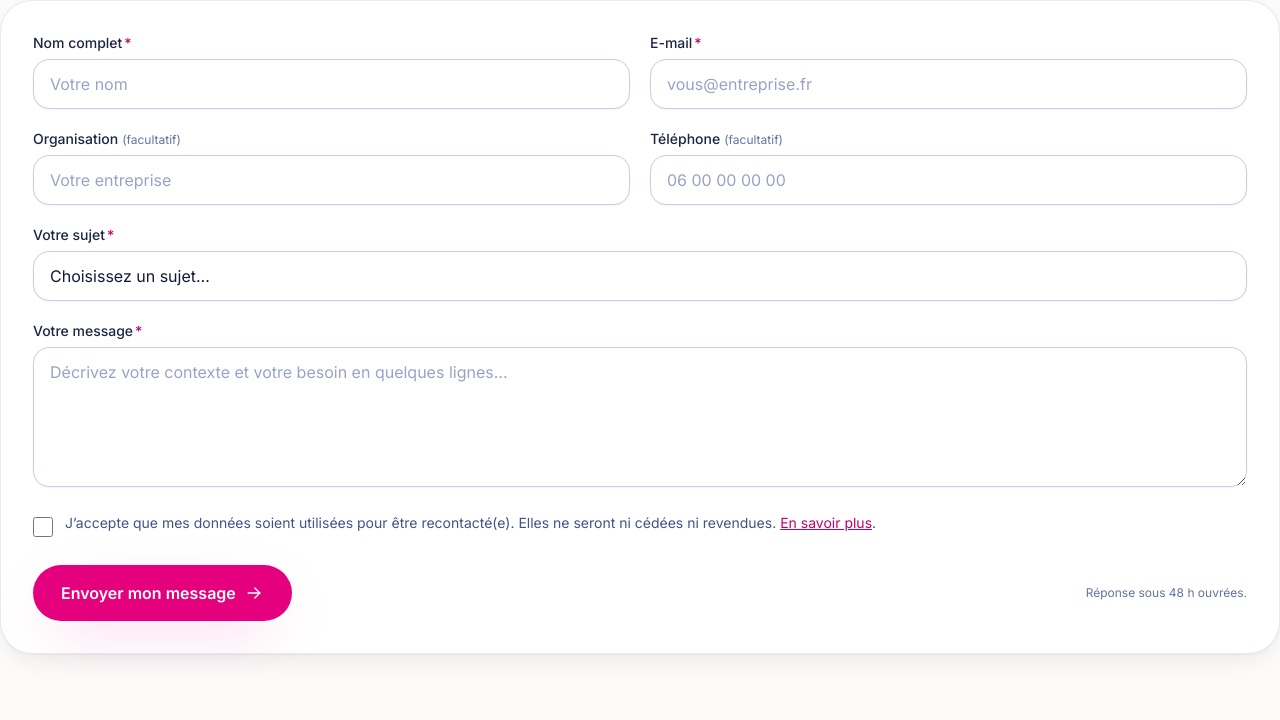
Test case: ContactForm › propose un repli mailto si l’API échoue
In the field labelled "Nom complet*": (332, 84) [33,59,630,109], type "Marie Dupont"
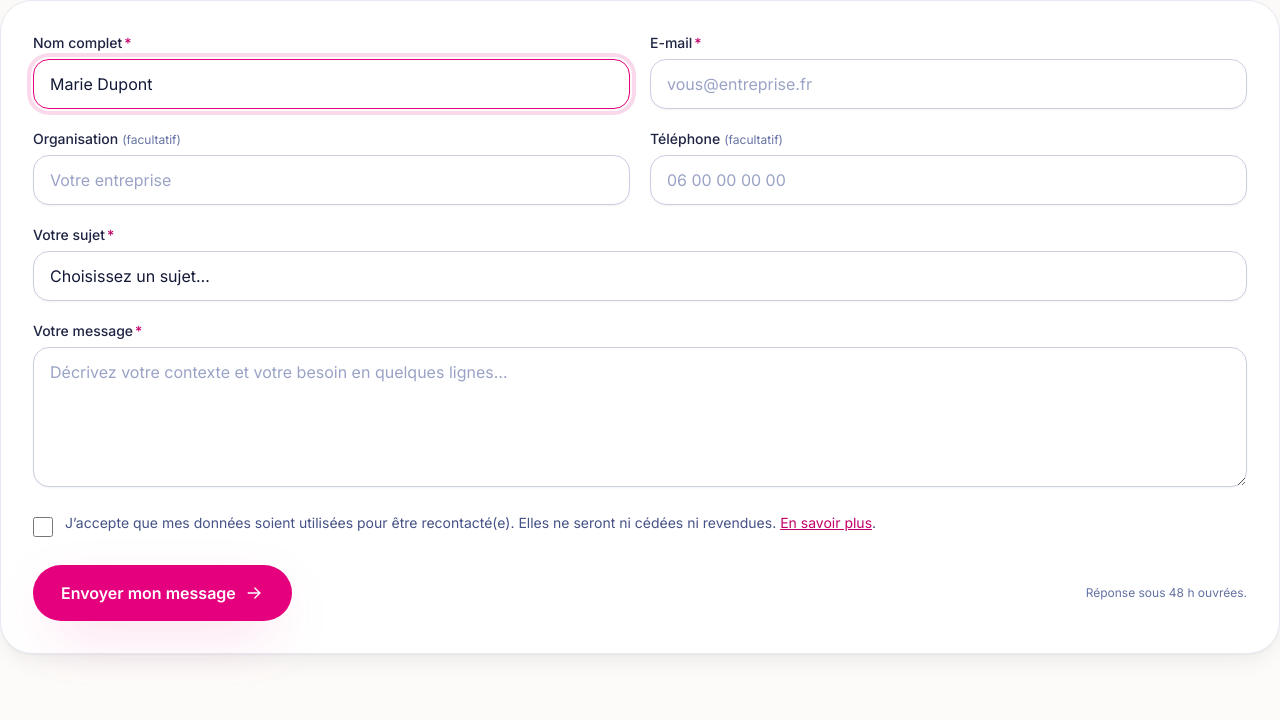
In the field labelled "E-mail*": (948, 84) [650,59,1247,109], type "marie@example.com"
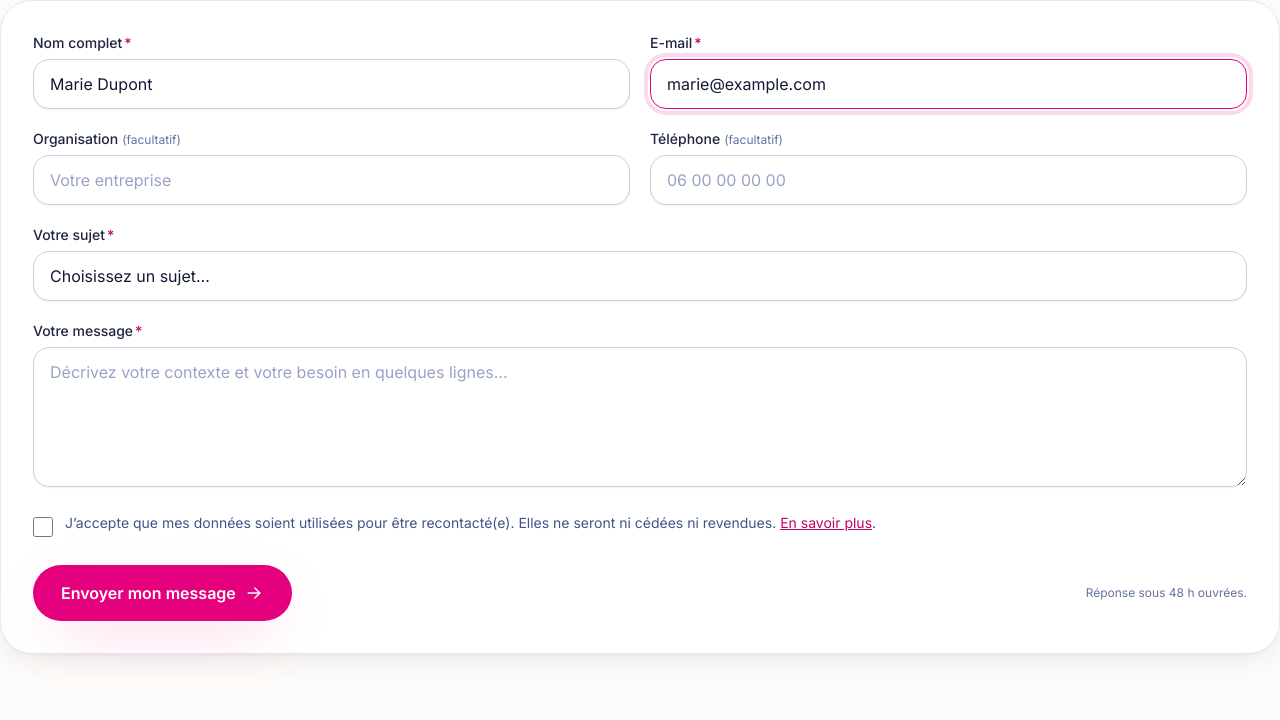
Select "Management & leadership" in the dropdown labelled "Votre sujet*": (640, 276) [33,251,1247,301]
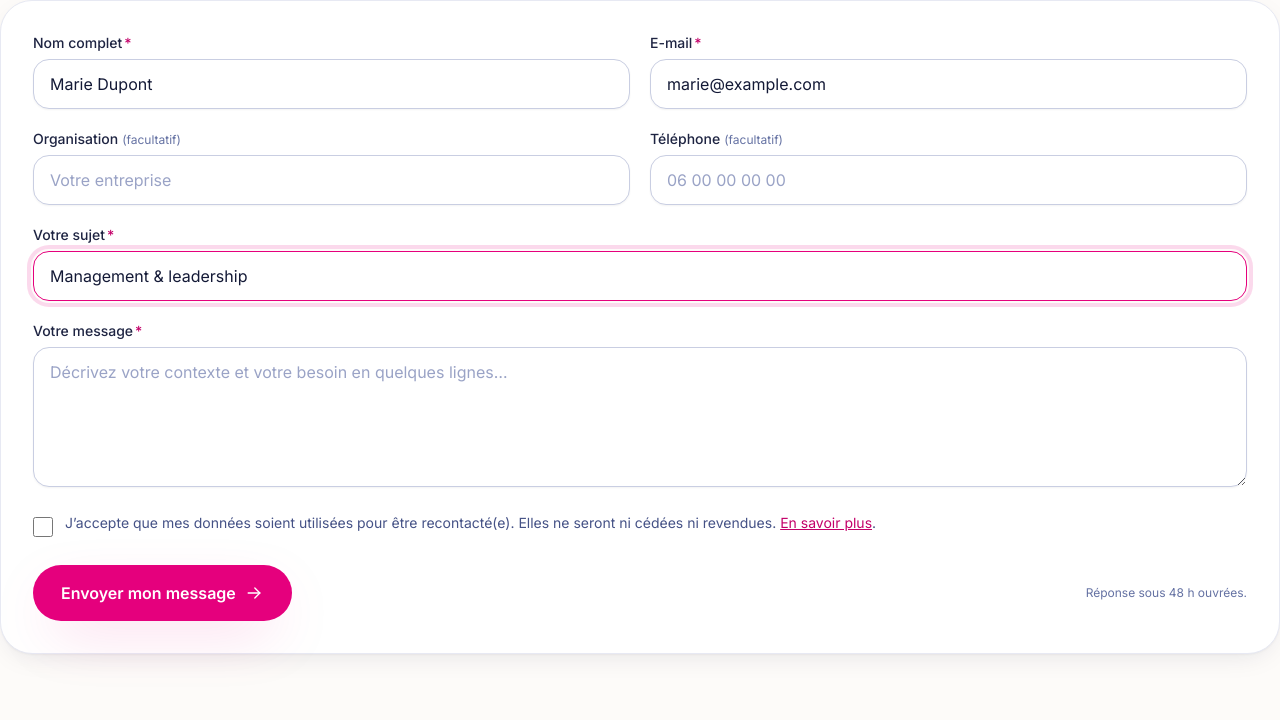
In the text box labelled "Votre message*": (640, 417) [33,347,1247,487], type "Bonjour, je souhaite un accompagnement pour mes managers."
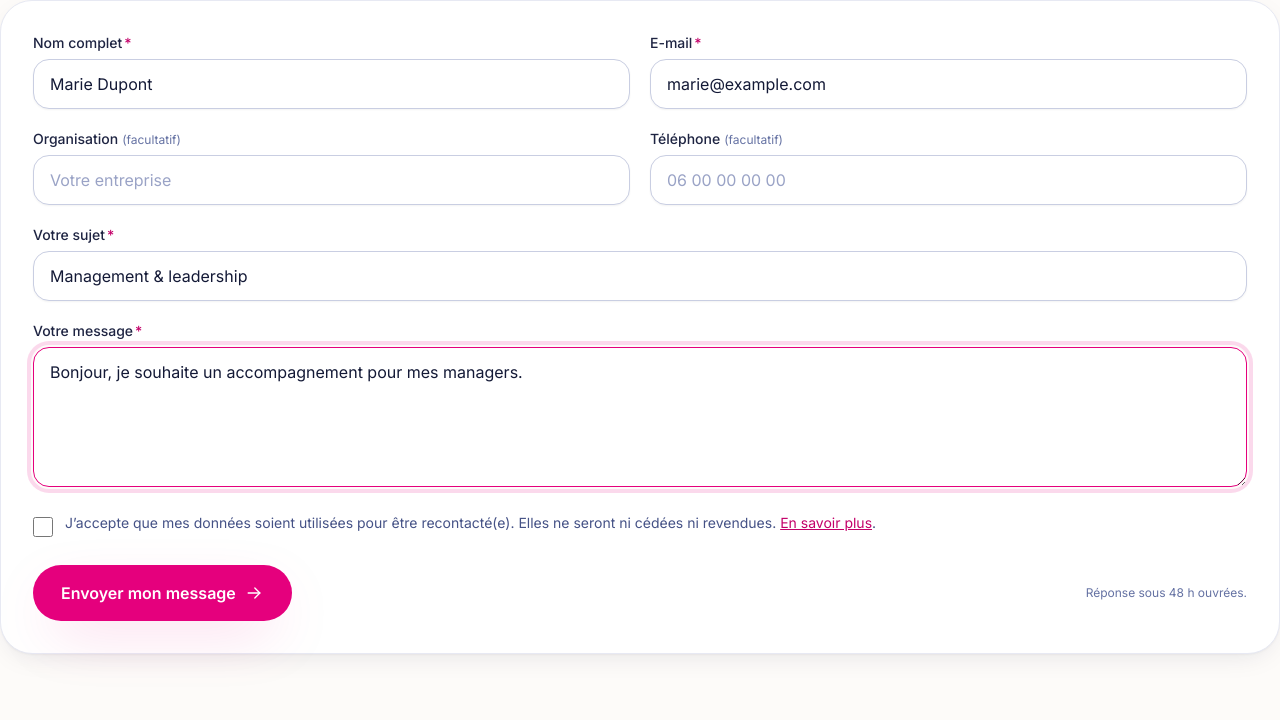
Click the checkbox labelled "J’accepte que mes données": (43, 527) [33,517,53,537]
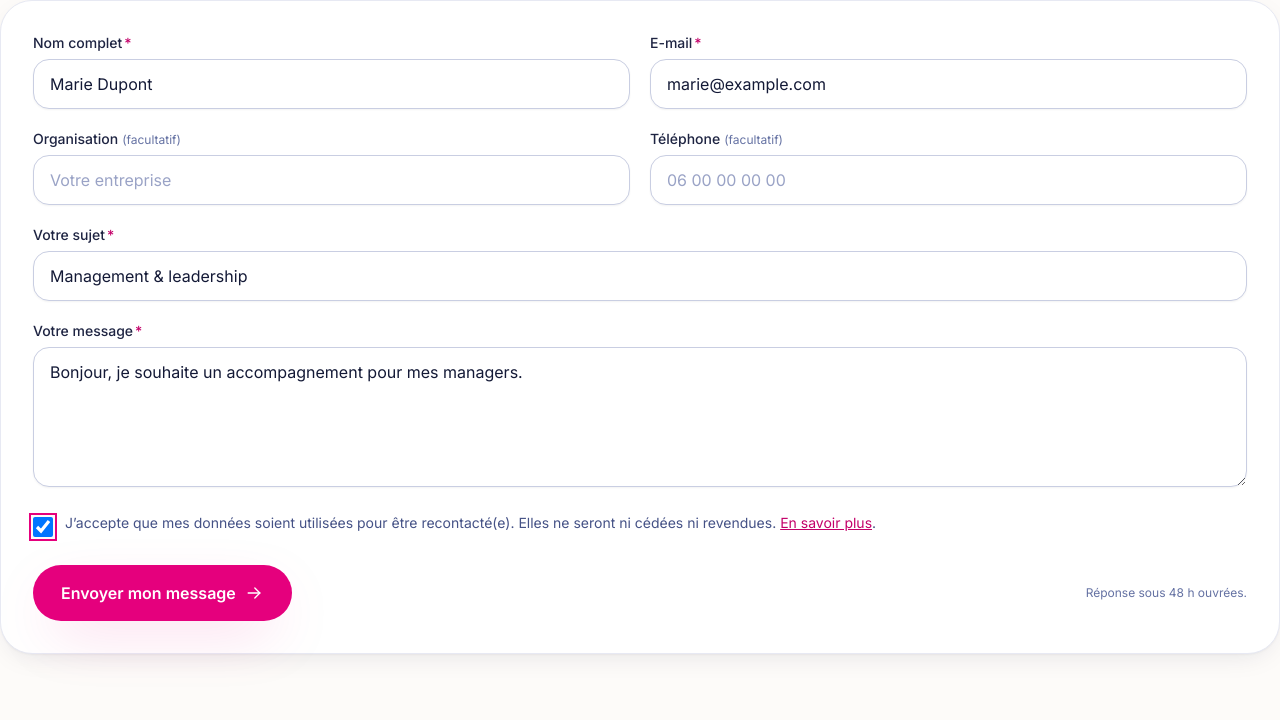
Click the button "Envoyer mon message": (162, 593) [33,565,292,621]
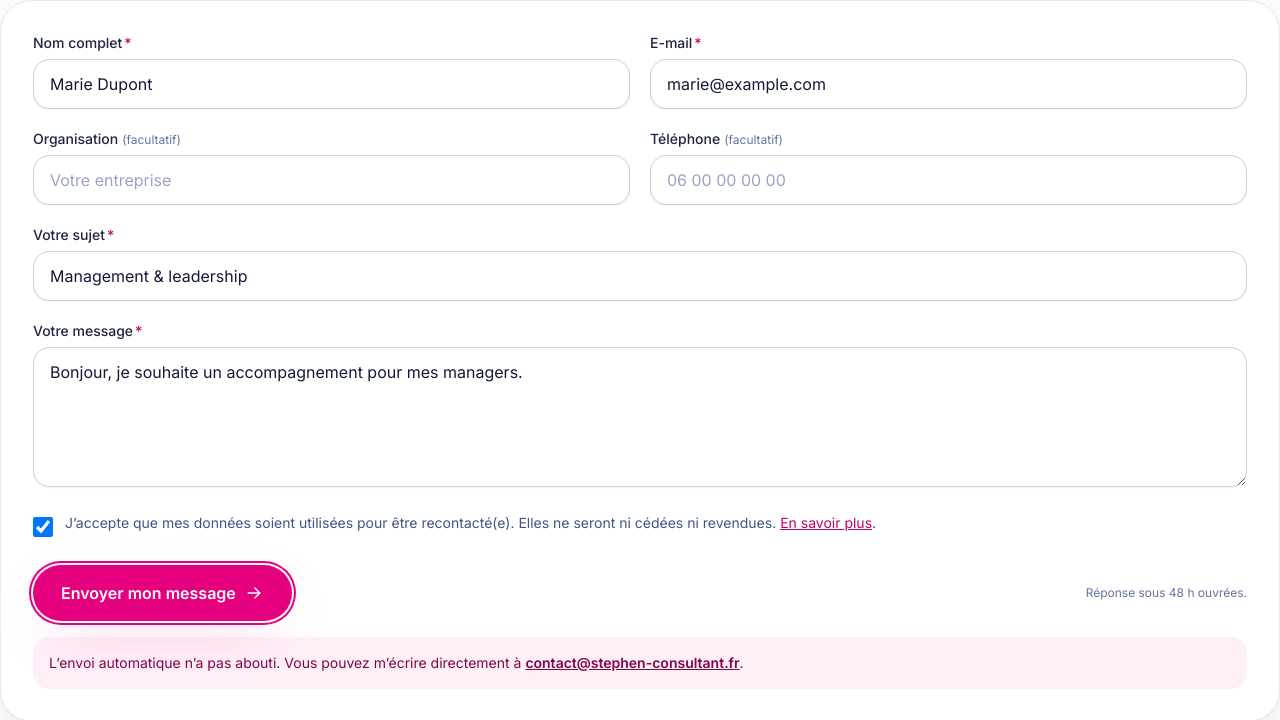
Expected: the text "n’a pas abouti" is shown, [49,654,521,671]
